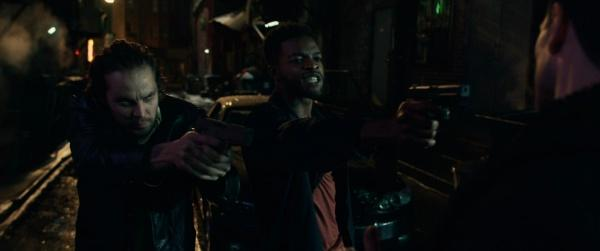Gun: (194, 116, 255, 159), (405, 84, 471, 120)
